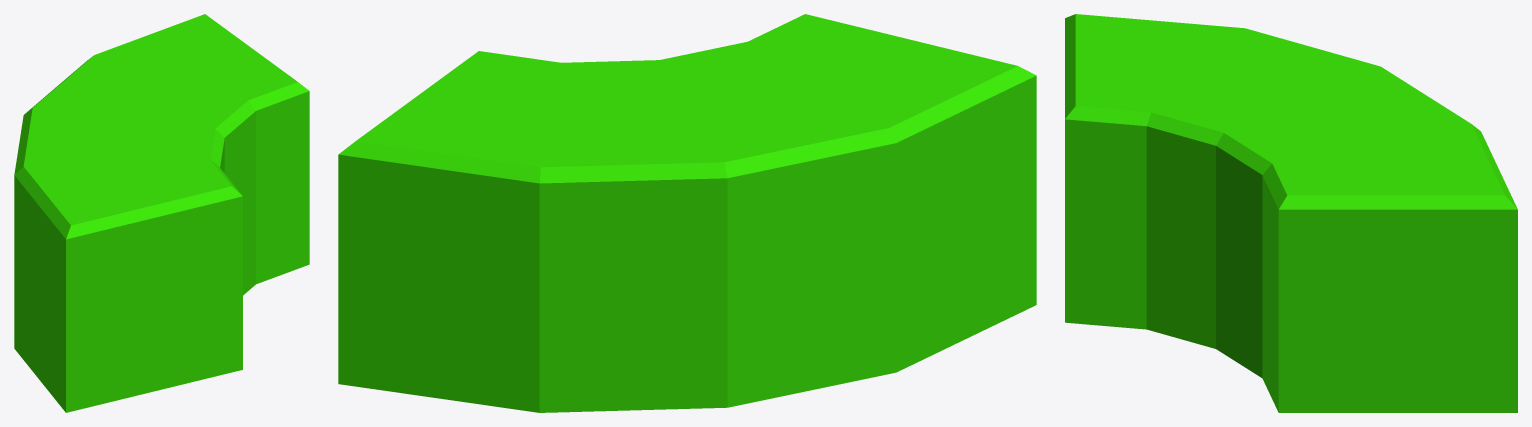
The model's file is round_2x1_01.fbx.
The picture shows the model from 3 angles, left to right: view 1: azimuth 30°, elevation 25°; view 2: azimuth 150°, elevation 25°; view 3: azimuth 270°, elevation 25°; orthographic projection. The views are drawn at different scales.
Visible parts, largest first — view 1: round_2x1_01; view 2: round_2x1_01; view 3: round_2x1_01.
Part boxes in pixels (x1=…): round_2x1_01: x1=14, y1=14, x2=309, y2=412; round_2x1_01: x1=338, y1=14, x2=1036, y2=412; round_2x1_01: x1=1065, y1=14, x2=1517, y2=412.
Size of the model in its own units: 212 by 110 by 212.
